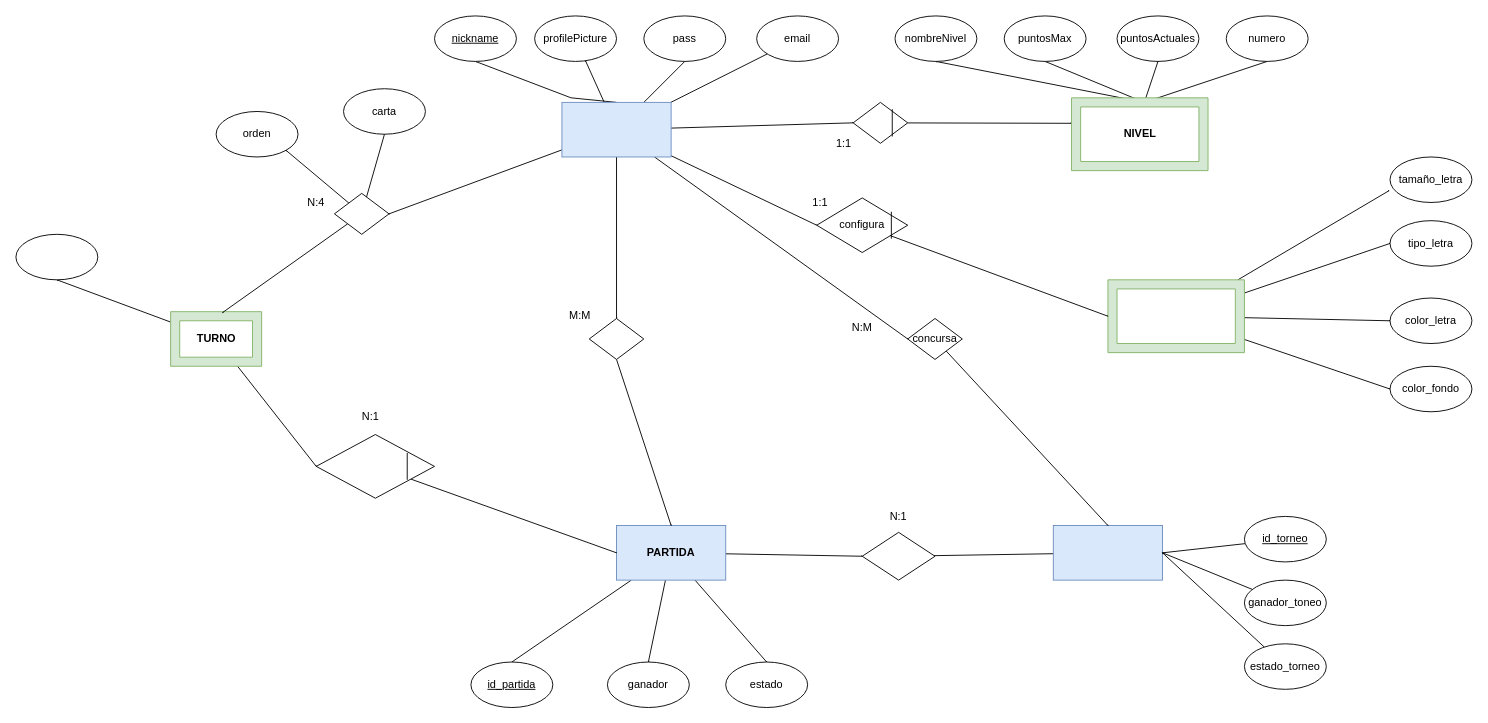
Some shapes in this 1488 by 723 pixel diagram are drawn without their labels. The shapes that lost their labels are listed below. From the top down, each one's centre as x and y in pixels, then its label:
the point at 616,129: USUARIO
the point at 880,122: esta
the point at 361,213: juega
the point at 56,256: num_turno
the point at 1175,316: PREFERENCIAS
the point at 616,338: participa
the point at 375,466: divida en
the point at 898,555: compuesto
the point at 1107,552: TORNEO
